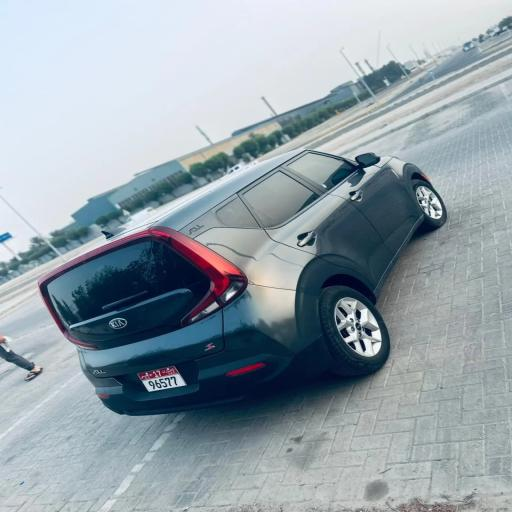license-plates: (136, 365, 187, 392)
